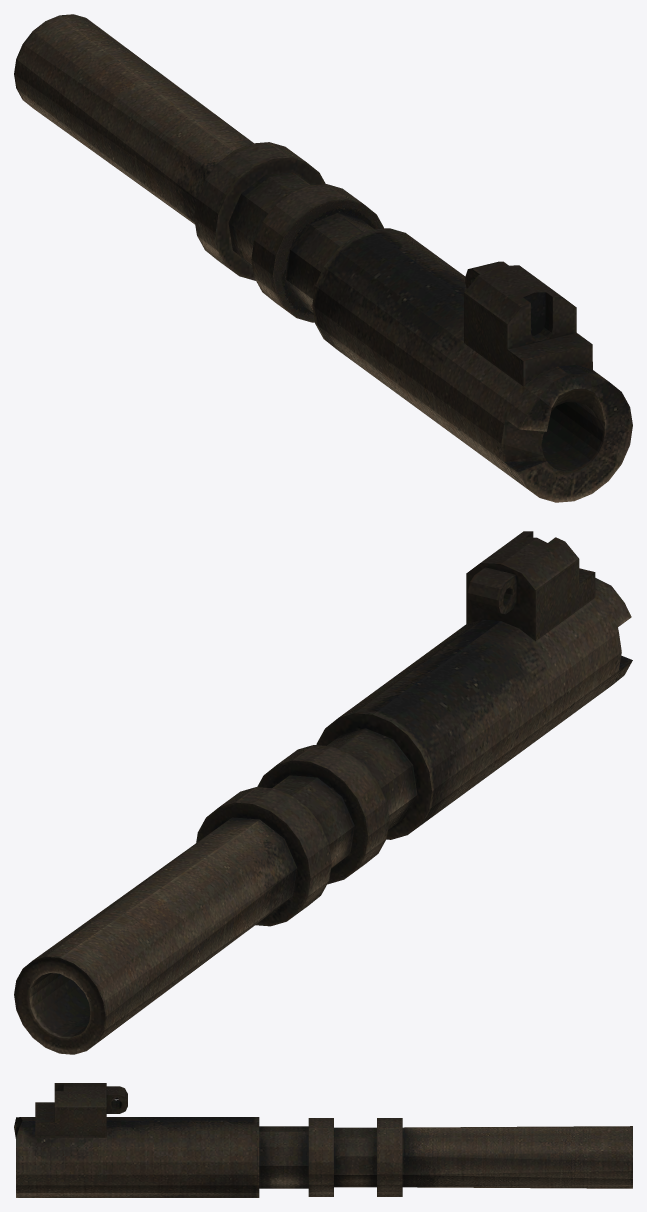
3 views of the same model, one above another, from view 1: azimuth 30°, elevation 25°; view 2: azimuth 150°, elevation 25°; view 3: azimuth 270°, elevation 25° (orthographic). The views are drawn at different scales.
Parts seen in each view (by area): view 1: TW_5b3baf8f5acfc40dc5296692_PZ_Import; view 2: TW_5b3baf8f5acfc40dc5296692_PZ_Import; view 3: TW_5b3baf8f5acfc40dc5296692_PZ_Import.
Part boxes in pixels (x1,y1,x2,y2): TW_5b3baf8f5acfc40dc5296692_PZ_Import: [14, 14, 632, 502]; TW_5b3baf8f5acfc40dc5296692_PZ_Import: [14, 531, 632, 1054]; TW_5b3baf8f5acfc40dc5296692_PZ_Import: [14, 1083, 632, 1197].
Size of the model in its own units: 0.00886 by 0.0673 by 0.0129.
Materials: 1 (1 with a texture image).
